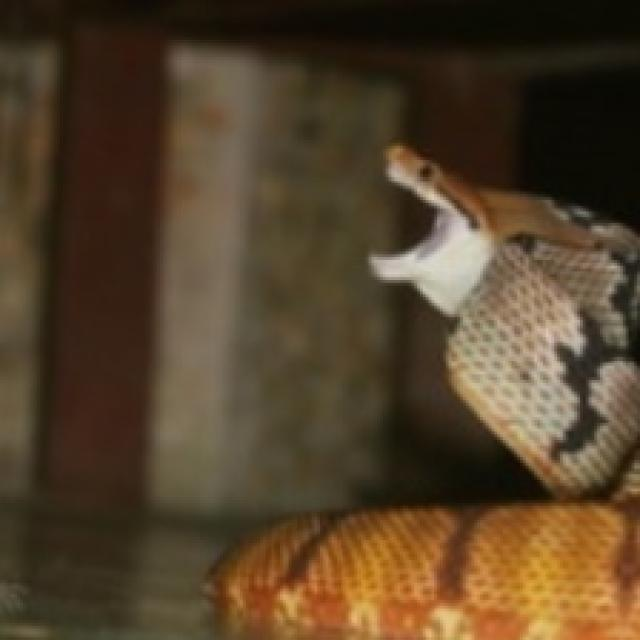dog-toothed cat snake: (211, 146, 637, 637)
